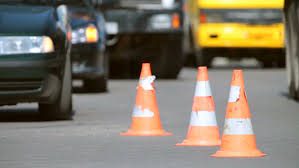car: (1, 1, 75, 119), (63, 1, 109, 93)
cone: (213, 70, 267, 157), (121, 63, 174, 137), (175, 66, 222, 145)
